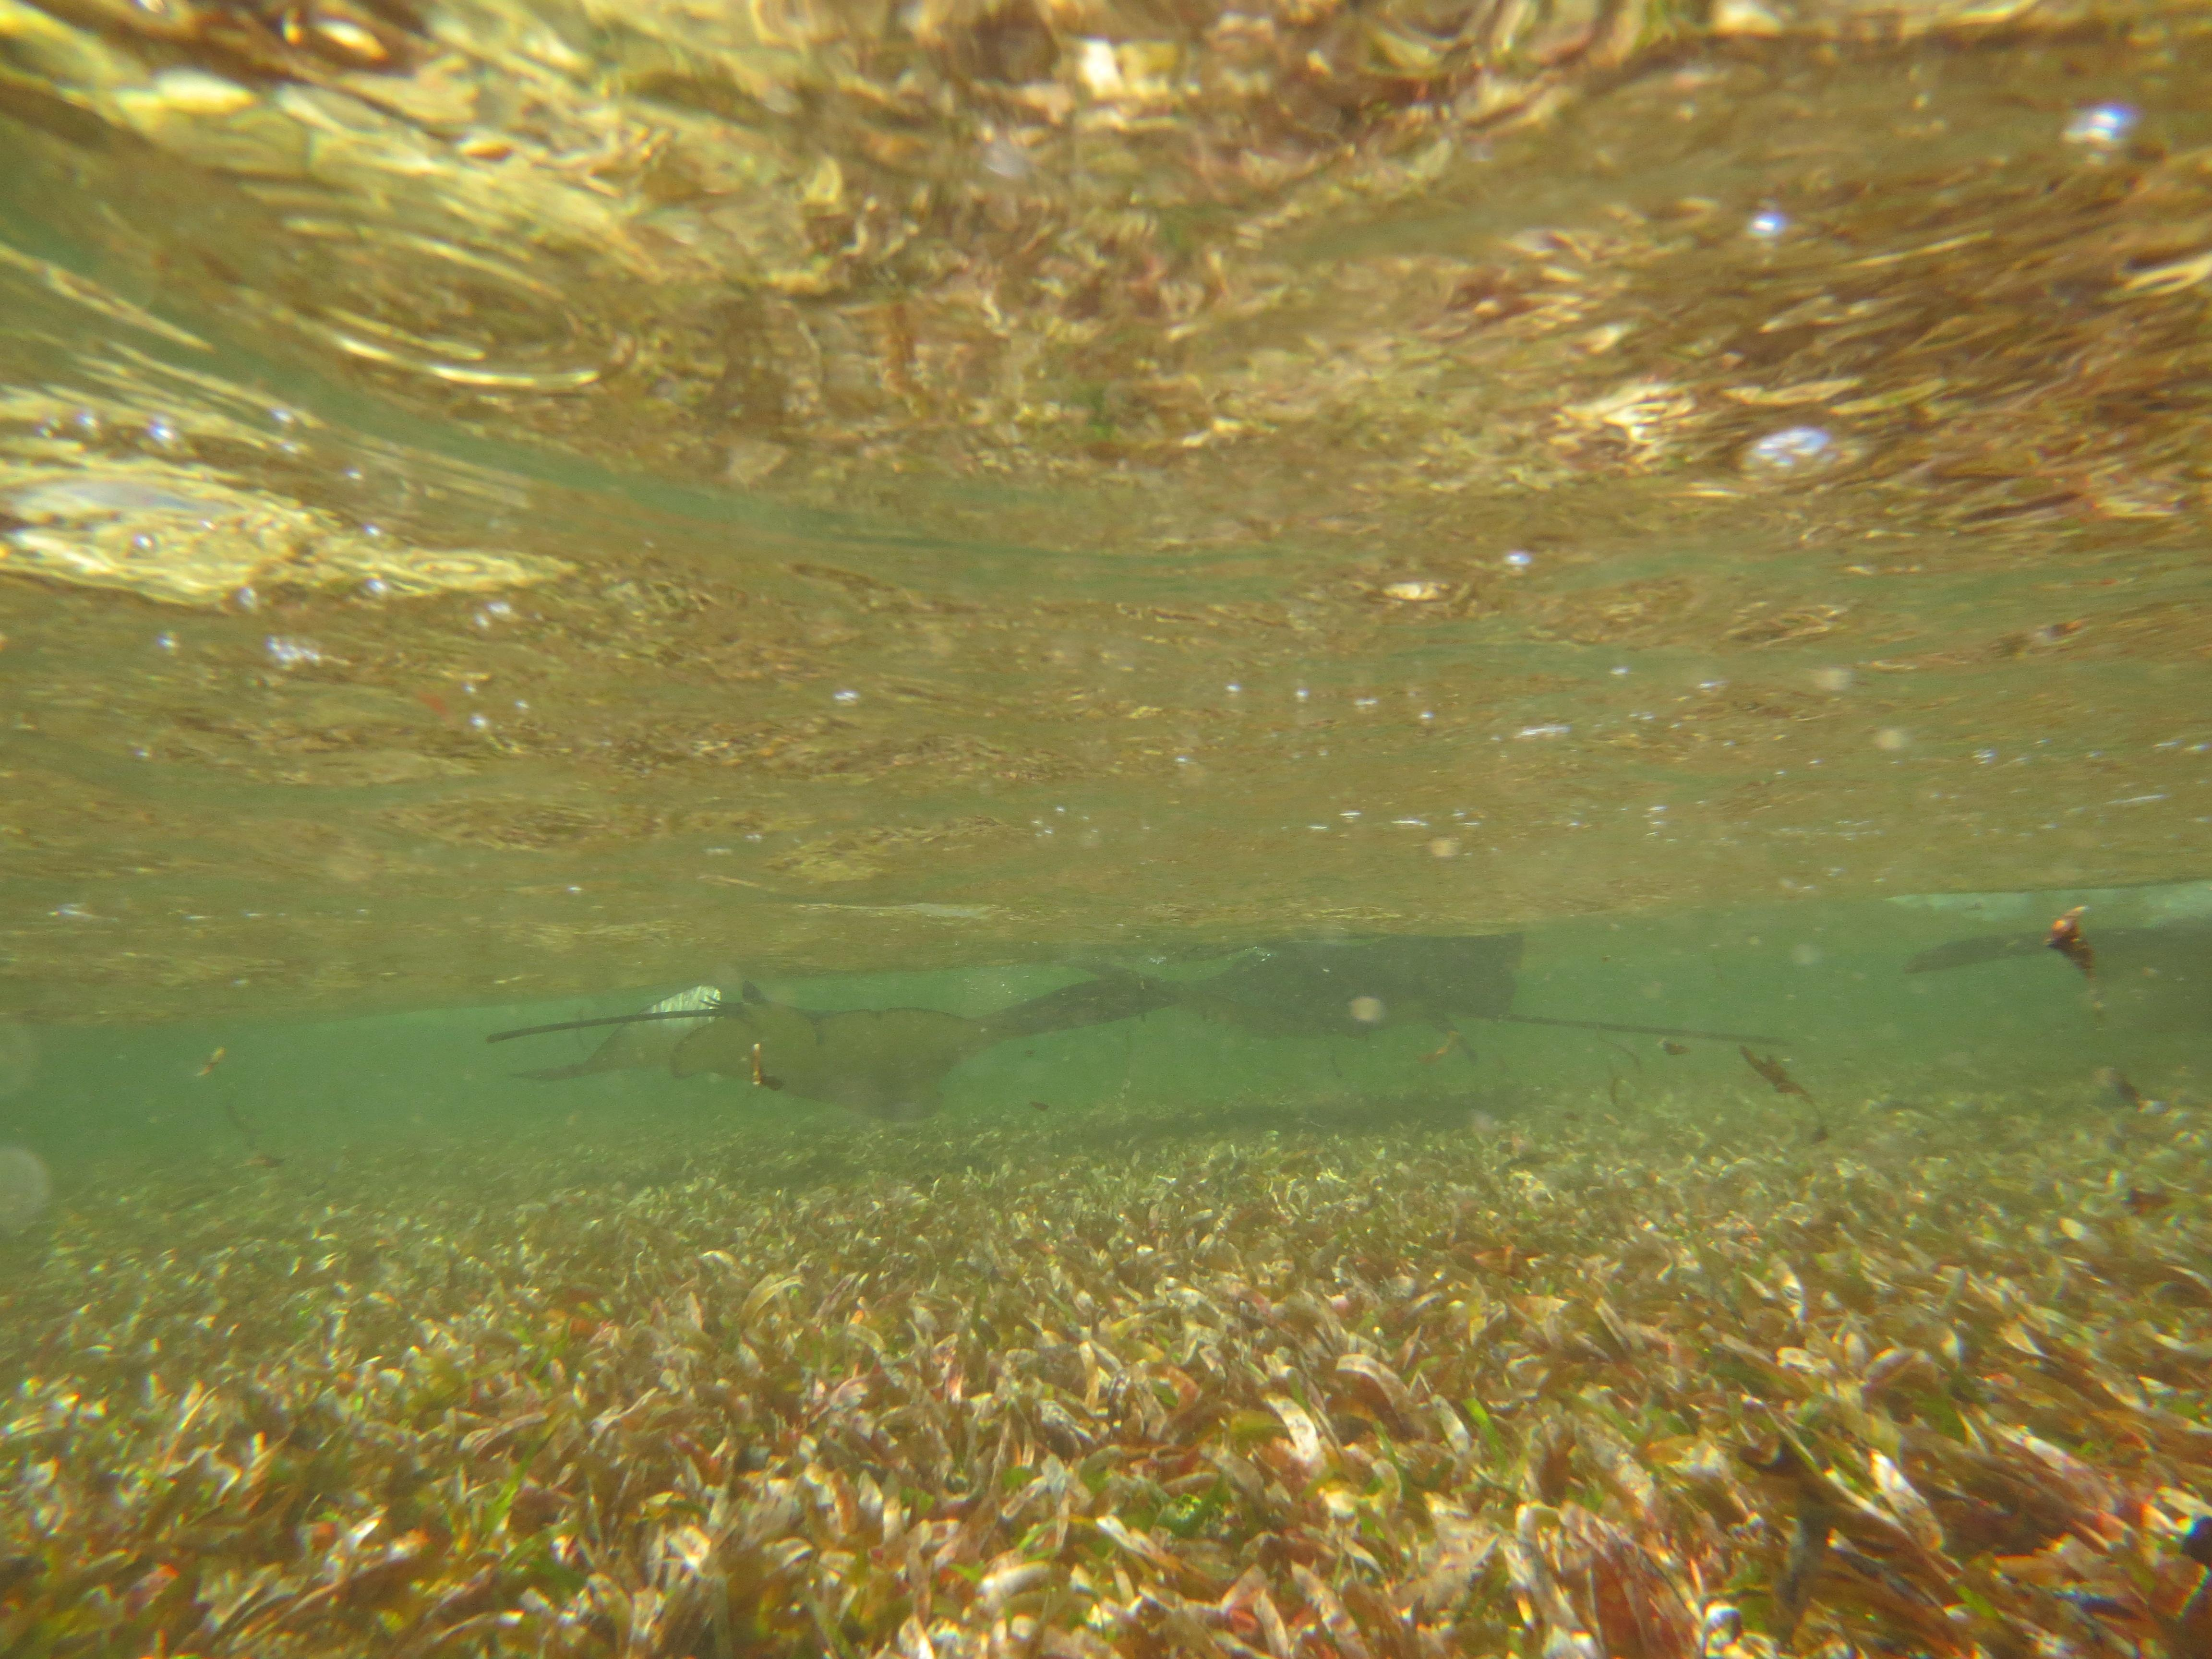Fish: (475, 972, 1177, 1126)
